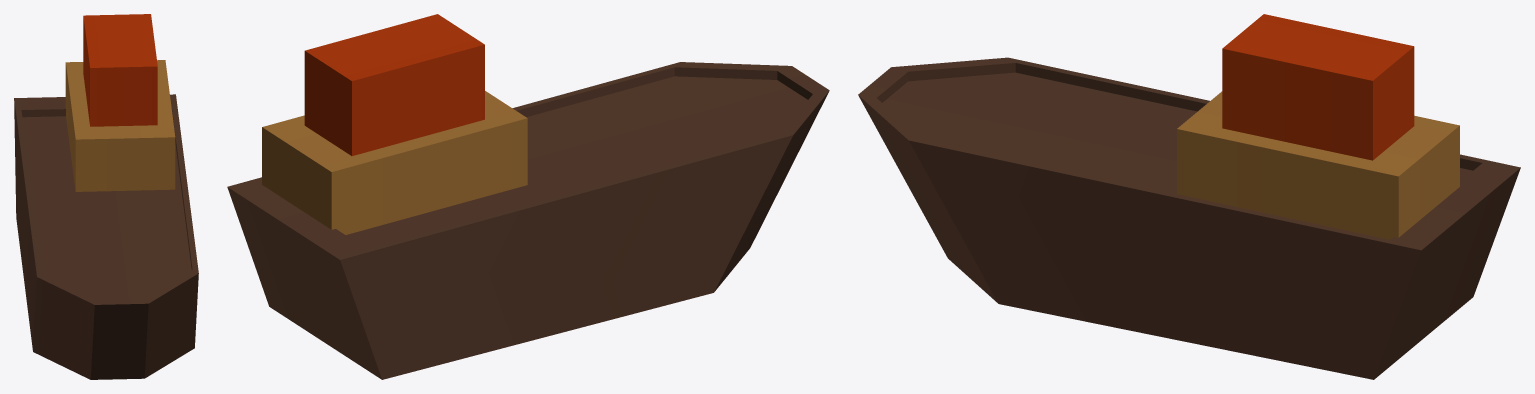
The model's file is boat 2.fbx.
3 renders of one model, left to right at view 1: azimuth 30°, elevation 25°; view 2: azimuth 150°, elevation 25°; view 3: azimuth 270°, elevation 25°, orthographic. The views are drawn at different scales.
Parts seen in each view (by area): view 1: Cube.545; view 2: Cube.545; view 3: Cube.545.
Boxes of the visible parts, x1=… form: Cube.545: x1=14, y1=14, x2=198, y2=379; Cube.545: x1=227, y1=14, x2=829, y2=379; Cube.545: x1=858, y1=14, x2=1520, y2=379.
Size of the model in its own units: 13.89 by 9.59 by 20.19.
1 material, 1 textured.
